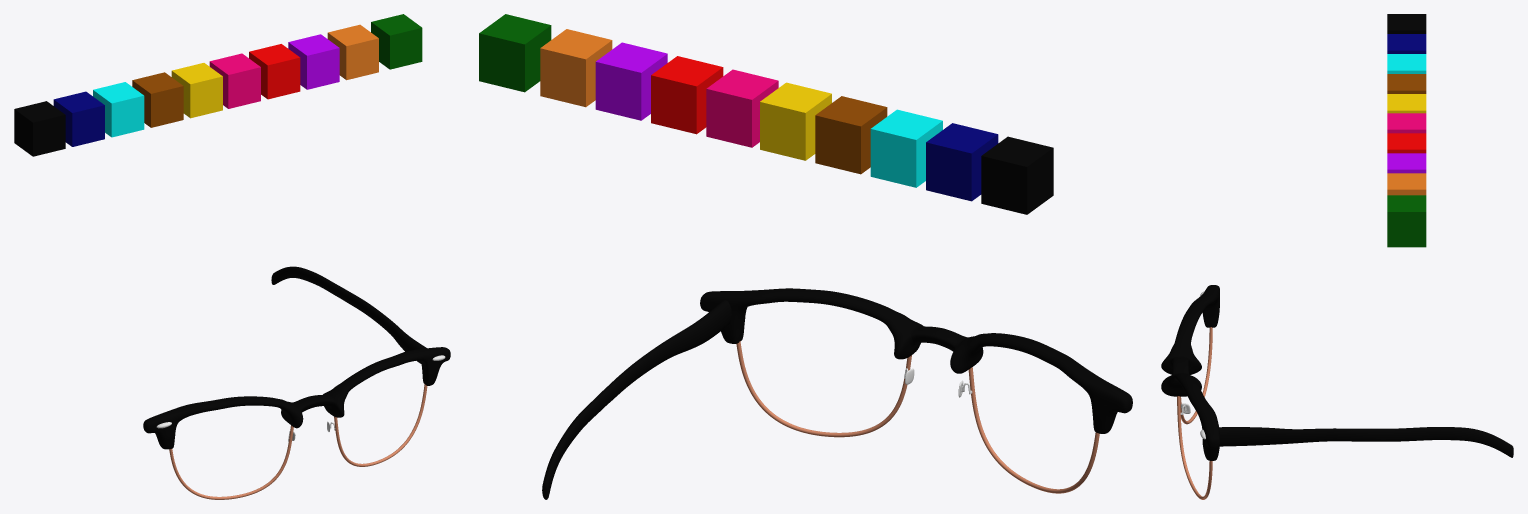
File: glasses1.glb
3 renders of one model, left to right at view 1: azimuth 30°, elevation 25°; view 2: azimuth 150°, elevation 25°; view 3: azimuth 270°, elevation 25°, orthographic. The views are drawn at different scales.
Visible parts, largest first — view 1: Cube, 1, 10, 3, 2, 4, 5, 7, 8, 9, Cube.001, 6 (+1 smaller); view 2: Cube, 1, 10, Cube.001, 4, 8, 9, 2, 3, 7, 5, 6 (+2 smaller); view 3: Cube.001, Cube, 10, BezierCurve, 9, 6, 7, 8, 2, 3, 4, 1 (+1 smaller).
Boxes of the visible parts, x1,y1,x2,y2 form: Cube: (143, 347, 450, 449); 1: (14, 101, 65, 156); 10: (371, 14, 422, 69); 3: (93, 82, 144, 137); 2: (53, 91, 104, 146); 4: (132, 72, 183, 127); 5: (171, 63, 222, 118); 7: (249, 44, 300, 99); 8: (288, 34, 339, 89); 9: (327, 24, 378, 80); Cube.001: (271, 266, 426, 363); 6: (209, 53, 260, 108); Cube: (700, 288, 1132, 433); 1: (981, 136, 1053, 214); 10: (479, 14, 551, 92); Cube.001: (542, 300, 731, 499); 4: (815, 96, 887, 174); 8: (595, 42, 667, 120); 9: (540, 29, 612, 107); 2: (926, 123, 998, 201); 3: (870, 109, 942, 187); 7: (651, 56, 723, 134); 5: (760, 82, 831, 160); 6: (706, 69, 778, 147); Cube.001: (1219, 427, 1513, 457); Cube: (1161, 285, 1219, 460); 10: (1387, 195, 1426, 247); BezierCurve: (1177, 327, 1212, 499); 9: (1387, 173, 1426, 195); 6: (1387, 113, 1426, 133); 7: (1387, 133, 1426, 153); 8: (1387, 153, 1426, 173); 2: (1387, 34, 1426, 53); 3: (1387, 54, 1426, 73); 4: (1387, 74, 1426, 93); 1: (1387, 14, 1426, 33).
Bounding box in the file's own units: 5.46 × 4.49 × 4.11.
